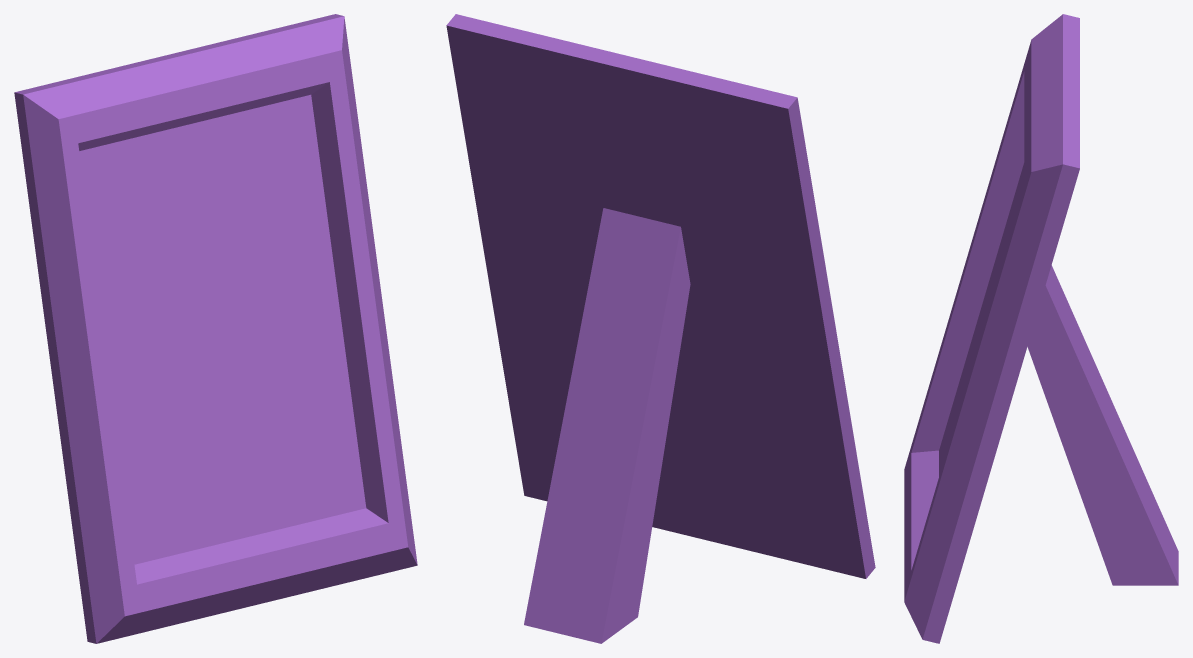
Rendered from tableCuadro04.fbx.
3 renders of one model, left to right at view 1: azimuth 30°, elevation 25°; view 2: azimuth 150°, elevation 25°; view 3: azimuth 270°, elevation 25°, orthographic. The views are drawn at different scales.
Visible parts, largest first — view 1: tableCuadro04; view 2: tableCuadro04; view 3: tableCuadro04.
Boxes of the visible parts, <box> form: tableCuadro04: <box>14,14,417,643</box>; tableCuadro04: <box>446,14,875,643</box>; tableCuadro04: <box>904,14,1178,643</box>.
Bounding box in the file's own units: 0.1767 × 0.2628 × 0.1363.
